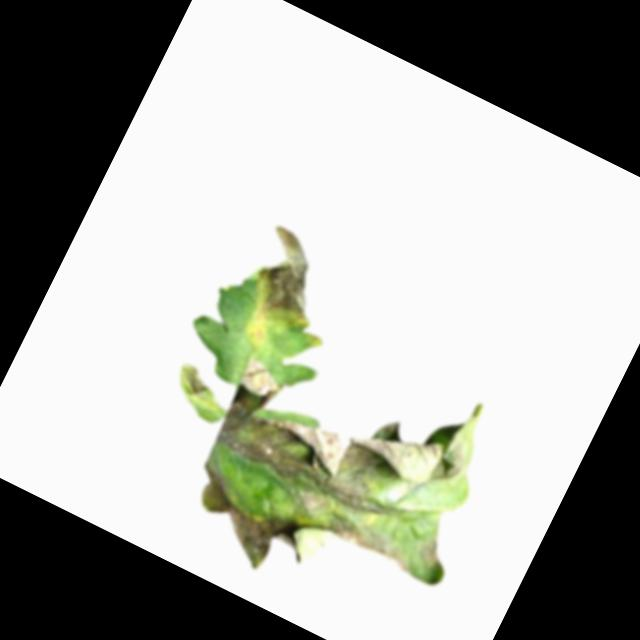Late_blight: (203, 368, 418, 547), (174, 466, 323, 587), (231, 221, 340, 338), (316, 512, 417, 586), (228, 359, 286, 421), (169, 360, 219, 405), (413, 538, 448, 574)
